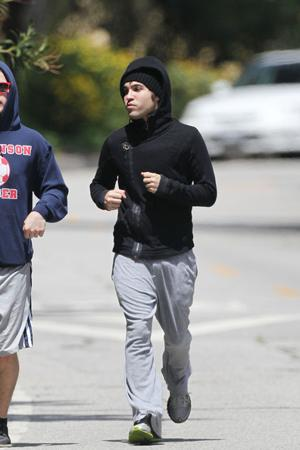person: (89, 59, 217, 443)
